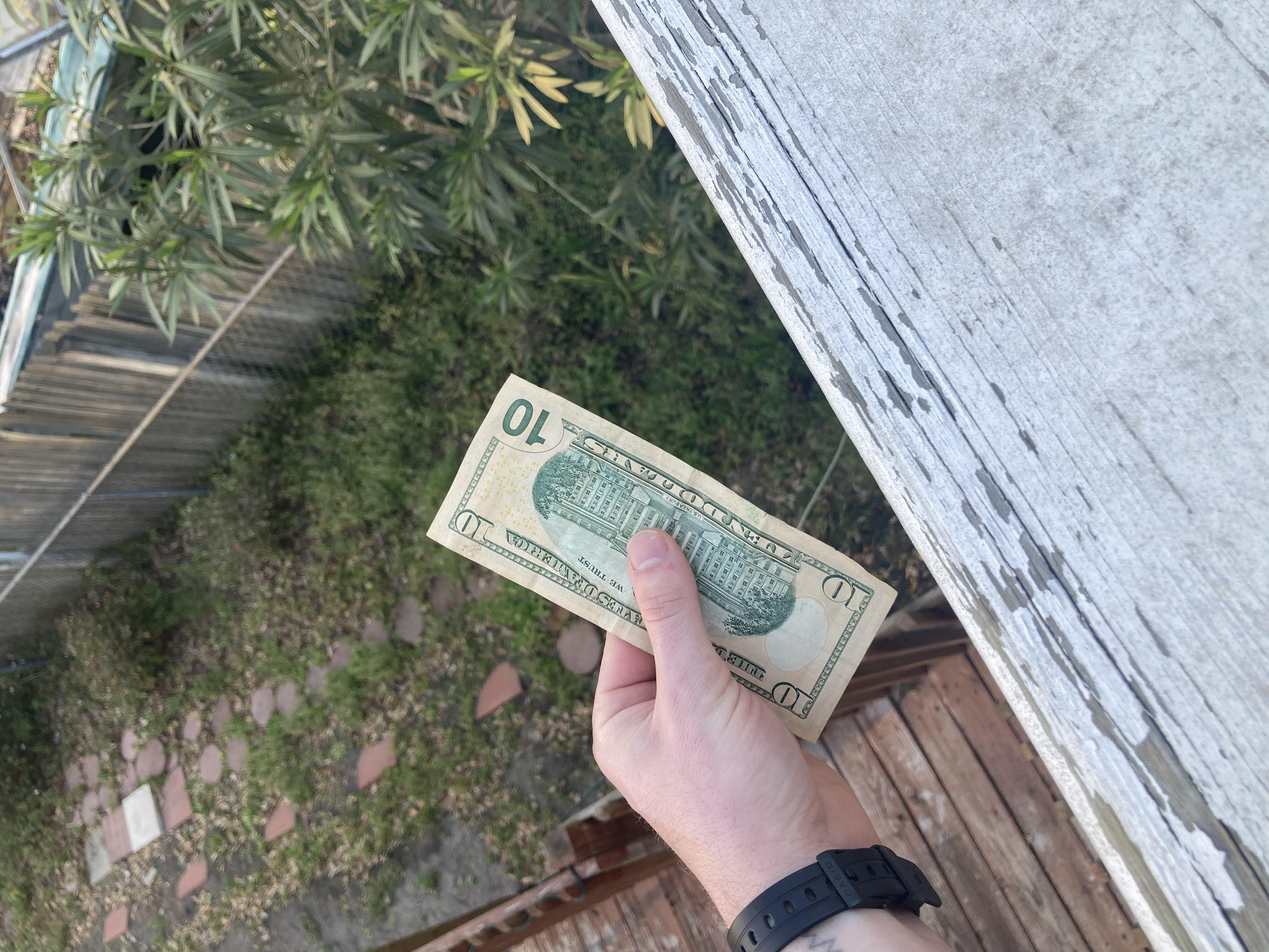ten-back: (275, 318, 772, 675)
